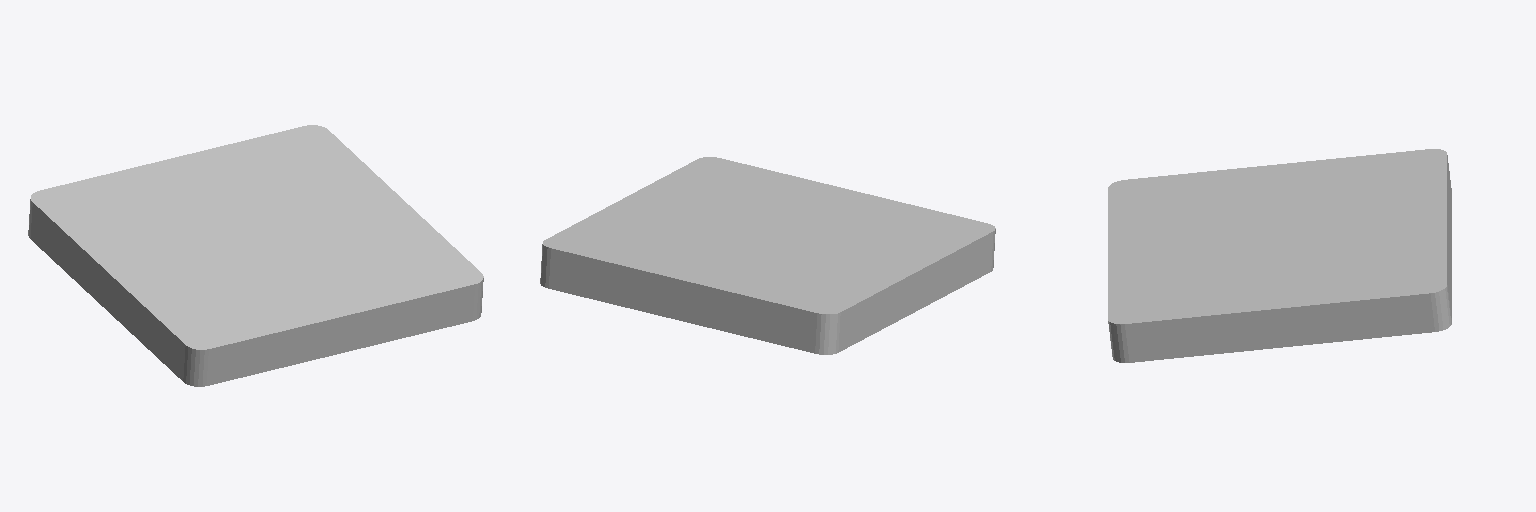
The model's file is original-31.obj.
3 renders of one model, left to right at view 1: azimuth 30°, elevation 25°; view 2: azimuth 150°, elevation 25°; view 3: azimuth 270°, elevation 25°, orthographic.
Visible parts, largest first — view 1: mesh30/mesh30-geometry#mesh30-geometry; view 2: mesh30/mesh30-geometry#mesh30-geometry; view 3: mesh30/mesh30-geometry#mesh30-geometry.
Boxes of the visible parts, <box> form: mesh30/mesh30-geometry#mesh30-geometry: <box>28,125,483,386</box>; mesh30/mesh30-geometry#mesh30-geometry: <box>540,157,995,354</box>; mesh30/mesh30-geometry#mesh30-geometry: <box>1108,149,1451,362</box>.
Size of the model in its own units: 0.1011 by 0.0238 by 0.1019.